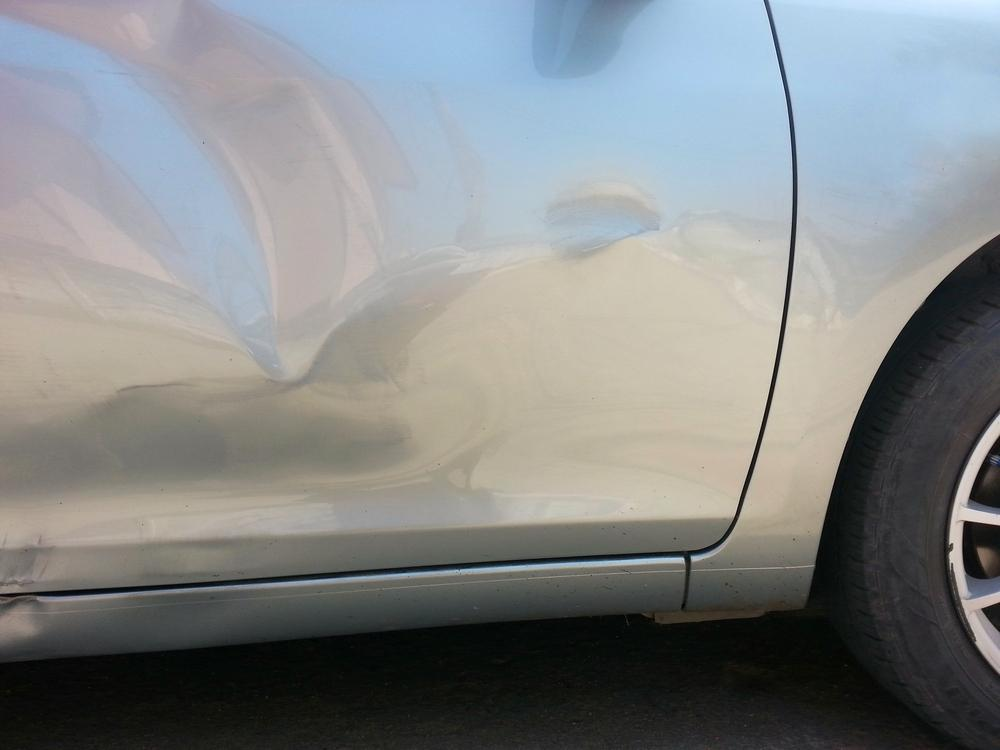dent: (0, 0, 707, 528), (542, 0, 646, 76), (0, 538, 50, 587), (0, 599, 46, 634)
